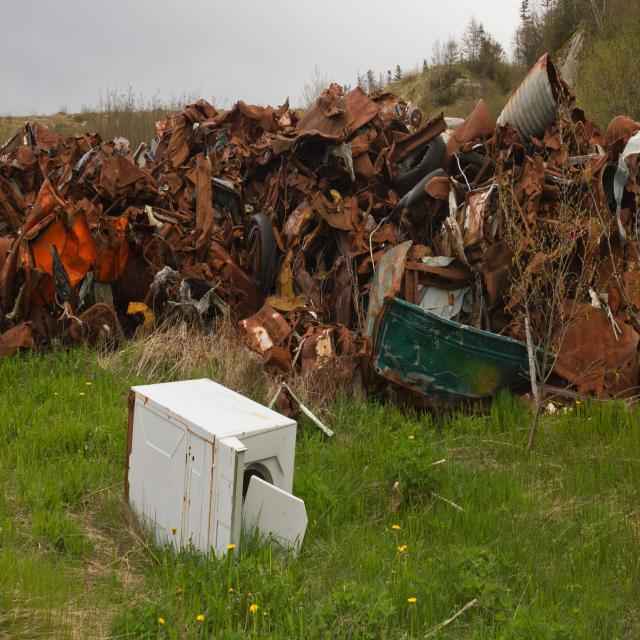metal: (167, 122, 462, 283)
